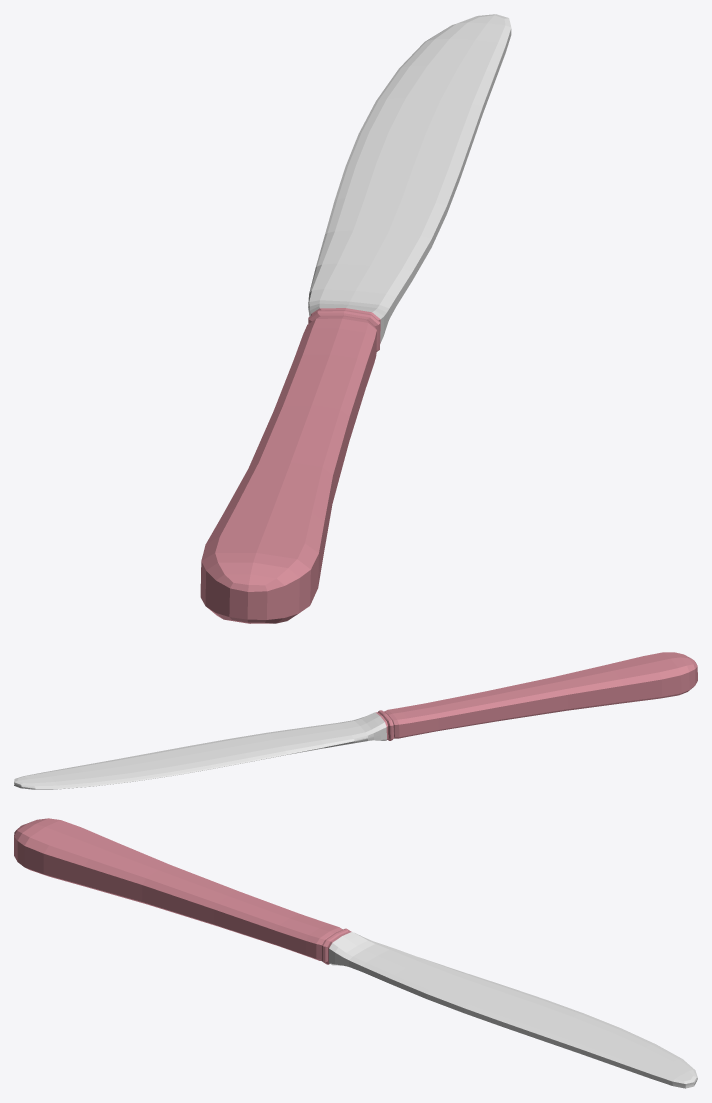
The model's file is knife.fbx.
The picture shows the model from 3 angles, top to bottom: view 1: azimuth 30°, elevation 25°; view 2: azimuth 150°, elevation 25°; view 3: azimuth 270°, elevation 25°; orthographic projection. The views are drawn at different scales.
Visible parts, largest first — view 1: Knife; view 2: Knife; view 3: Knife.
Boxes of the visible parts, left/top/right/bottom form: Knife: left=200, top=14, right=511, bottom=623; Knife: left=14, top=652, right=697, bottom=789; Knife: left=14, top=818, right=697, bottom=1088.
Bounding box in the file's own units: 95.37 × 6.68 × 113.
